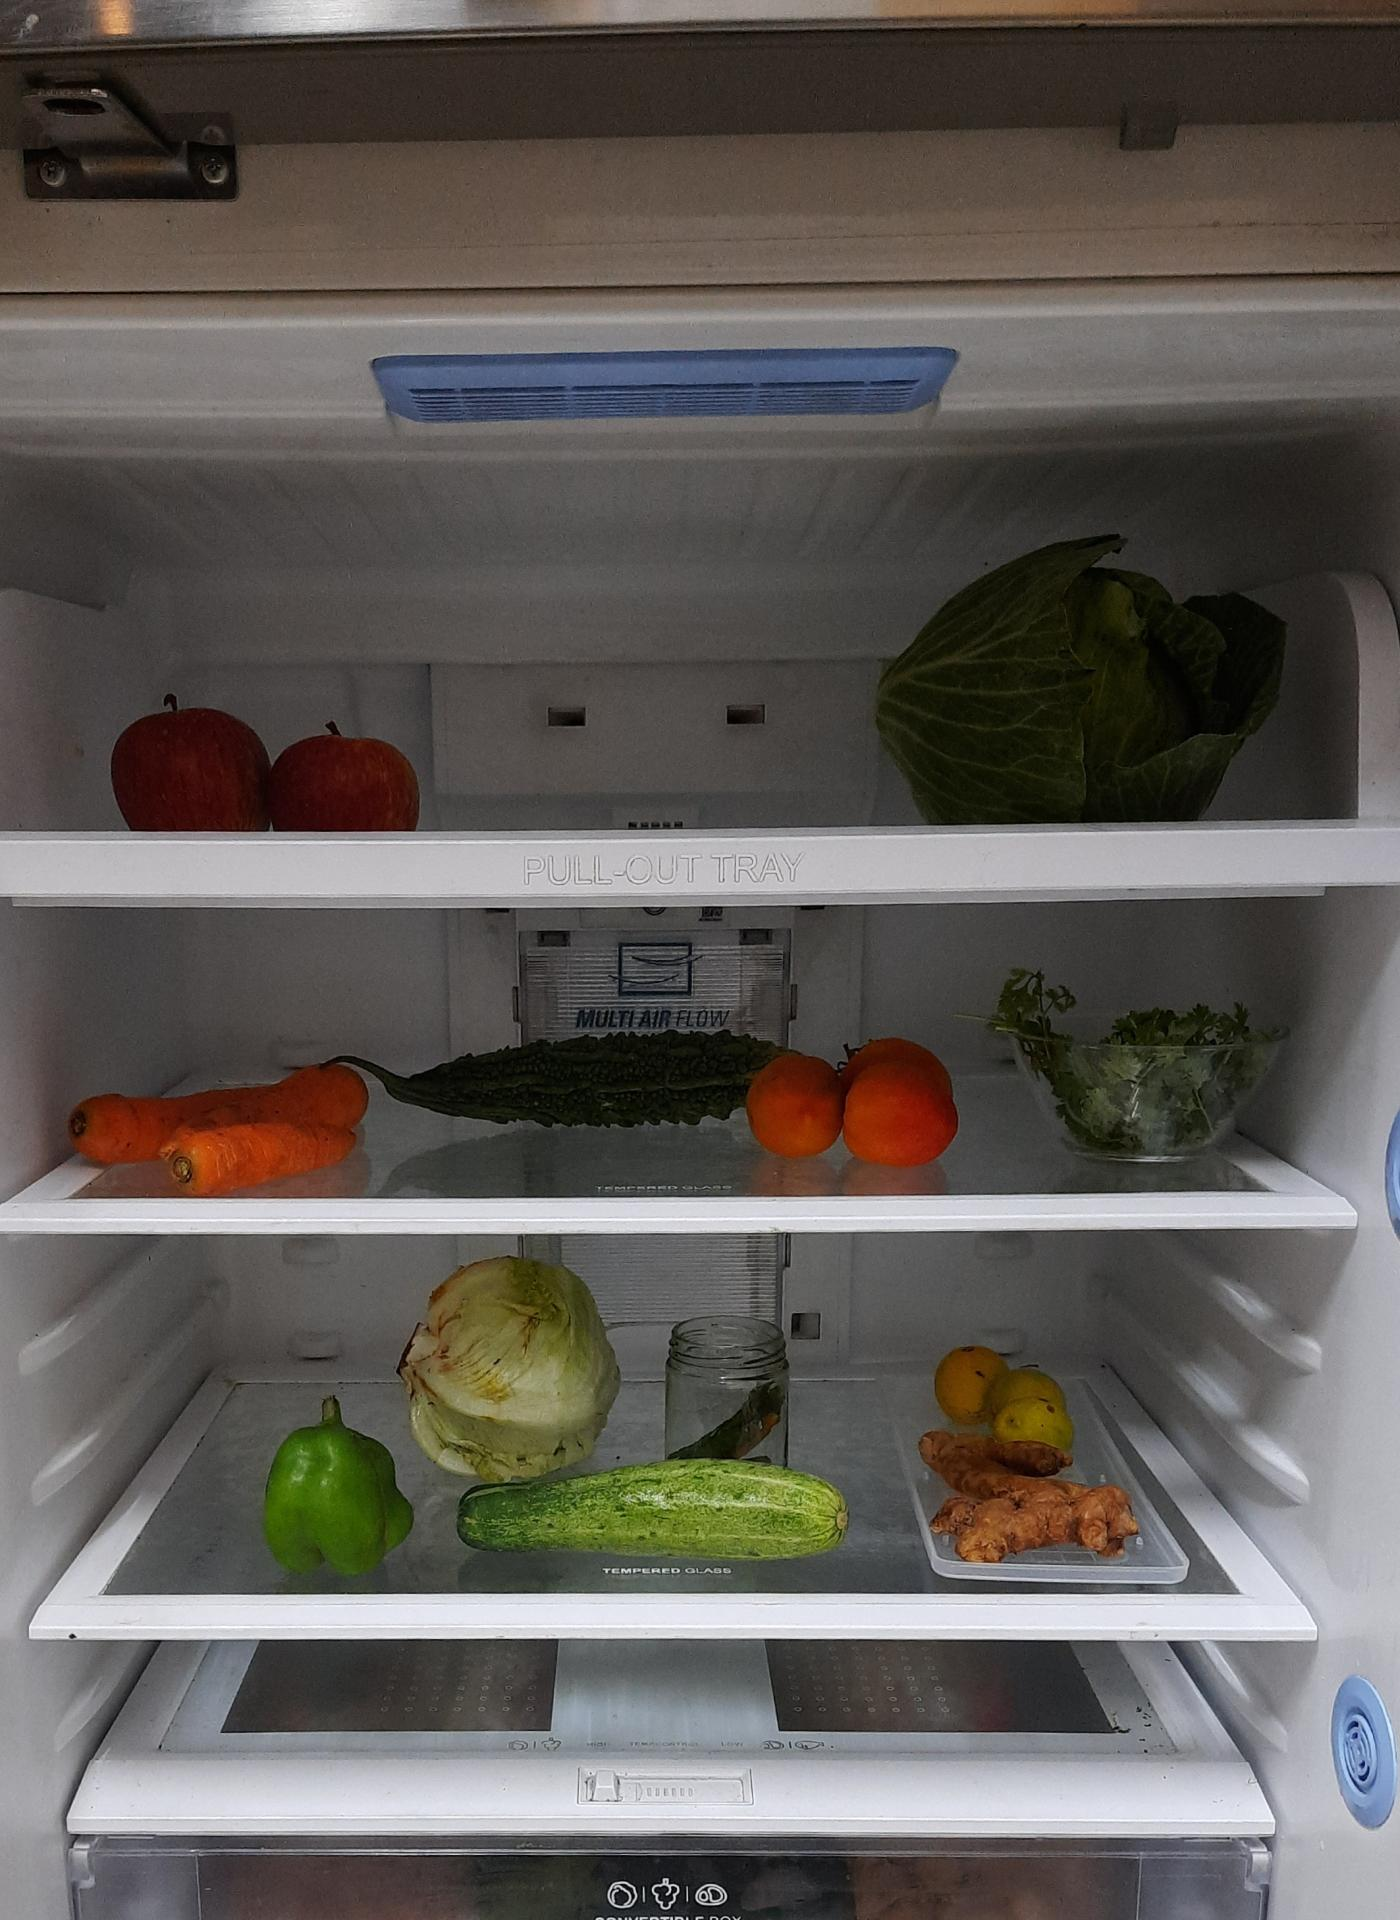apple: (104, 705, 423, 838)
bitter gourd: (340, 1017, 823, 1136)
cabbage: (868, 519, 1300, 820)
capsicum: (264, 1415, 416, 1570)
carrots: (75, 1058, 377, 1184)
chillies: (672, 1352, 789, 1479)
coriander: (999, 973, 1264, 1161)
cucumber: (450, 1447, 856, 1567)
ginger: (927, 1430, 1148, 1559)
lemon: (932, 1343, 1076, 1450)
lettuce: (412, 1261, 631, 1480)
tomato: (748, 1039, 960, 1166)
